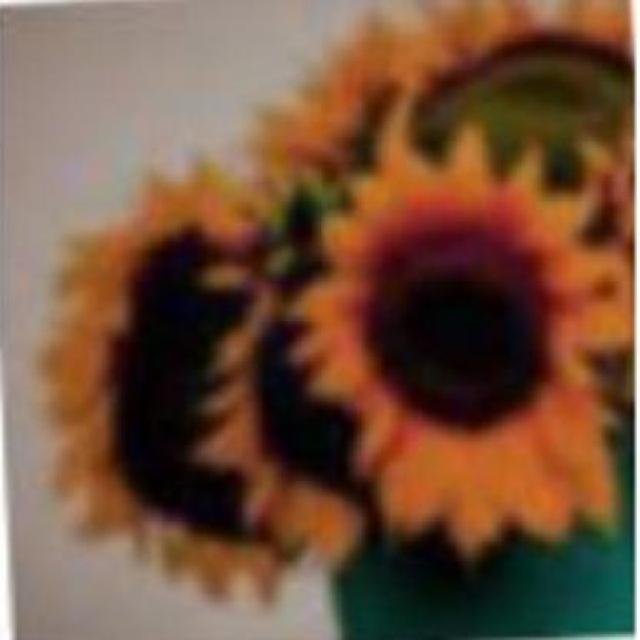sunflower: (310, 148, 622, 546), (32, 156, 260, 605)
